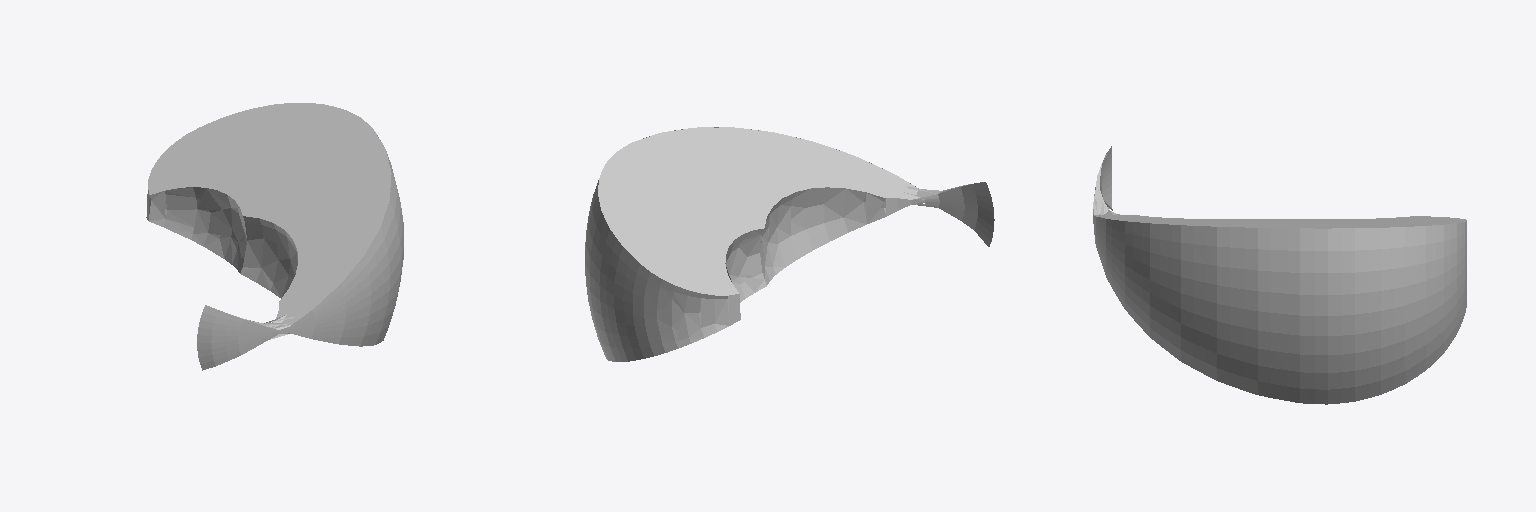
Rendered from middle_workspace_concave_hull.obj.
The picture shows the model from 3 angles: view 1: azimuth 30°, elevation 25°; view 2: azimuth 150°, elevation 25°; view 3: azimuth 270°, elevation 25°; orthographic projection.
Size of the model in its own units: 0.1844 by 0.1111 by 0.2098.